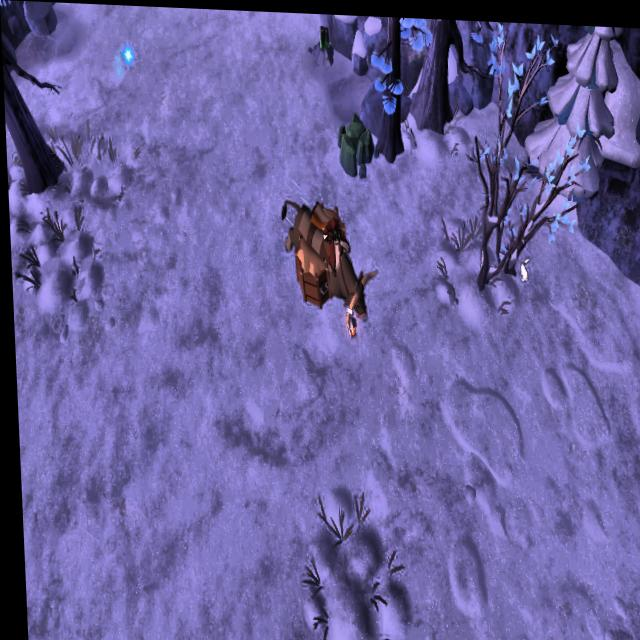ore_t3: (317, 16, 330, 53)
rock_t3: (333, 104, 382, 178)
